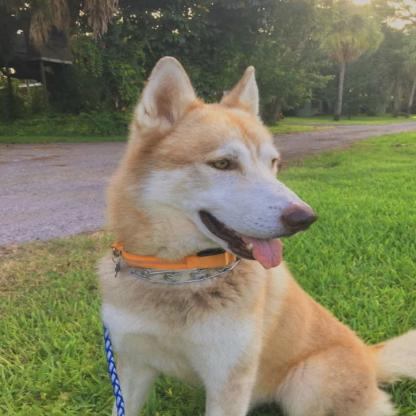dog: (94, 57, 416, 416)
